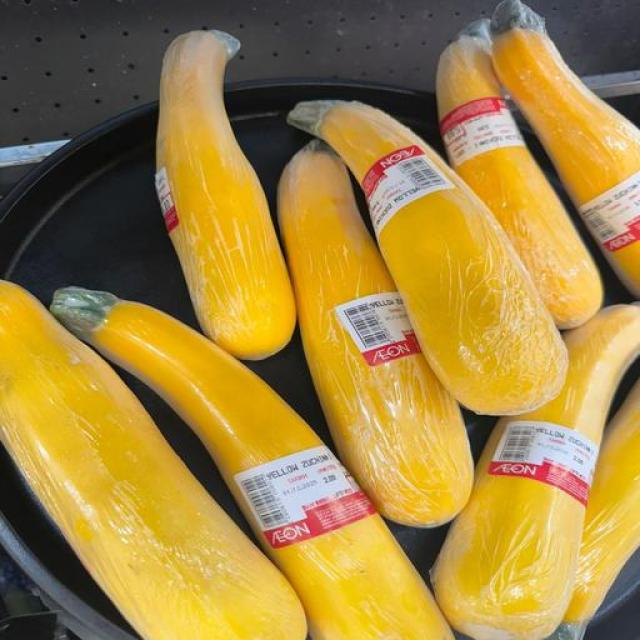organic: (0, 3, 640, 640), (264, 490, 376, 548), (489, 460, 589, 506), (363, 145, 424, 198), (440, 98, 506, 136), (363, 332, 421, 366), (604, 219, 639, 251), (164, 205, 178, 232)
